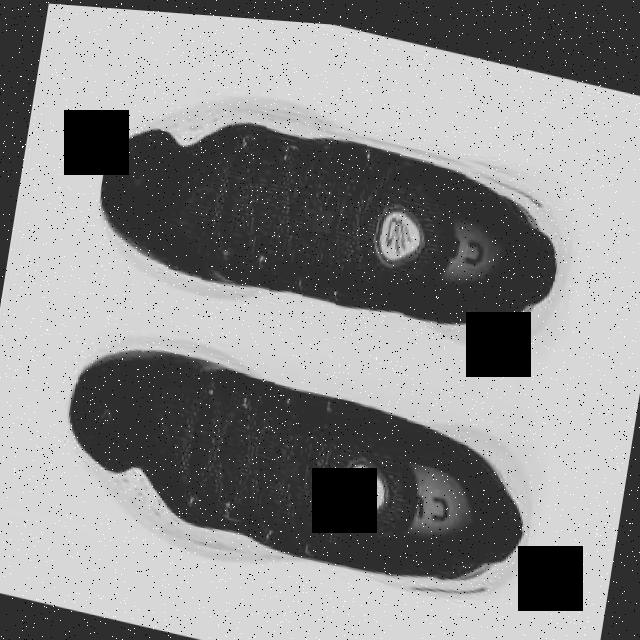shoe: (44, 308, 548, 625), (88, 67, 582, 370)
